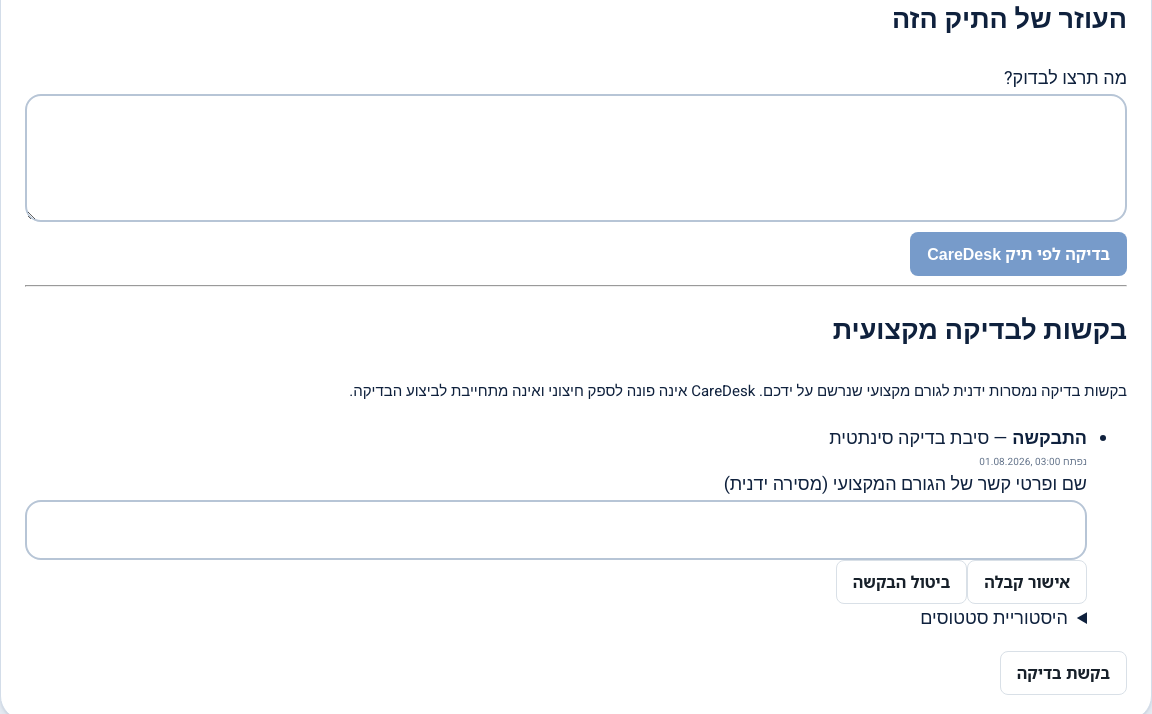
Test: ProductCompletionPanel › honest failure states › shows an error instead of an empty-looking audit history when it fails to load
(page scrolled)
Expected: the text "התבקשה" is shown, [1012,425,1087,452]
Click the heading "היסטוריית סטטוסים".
click(994, 618)  # box [920,605,1068,632]
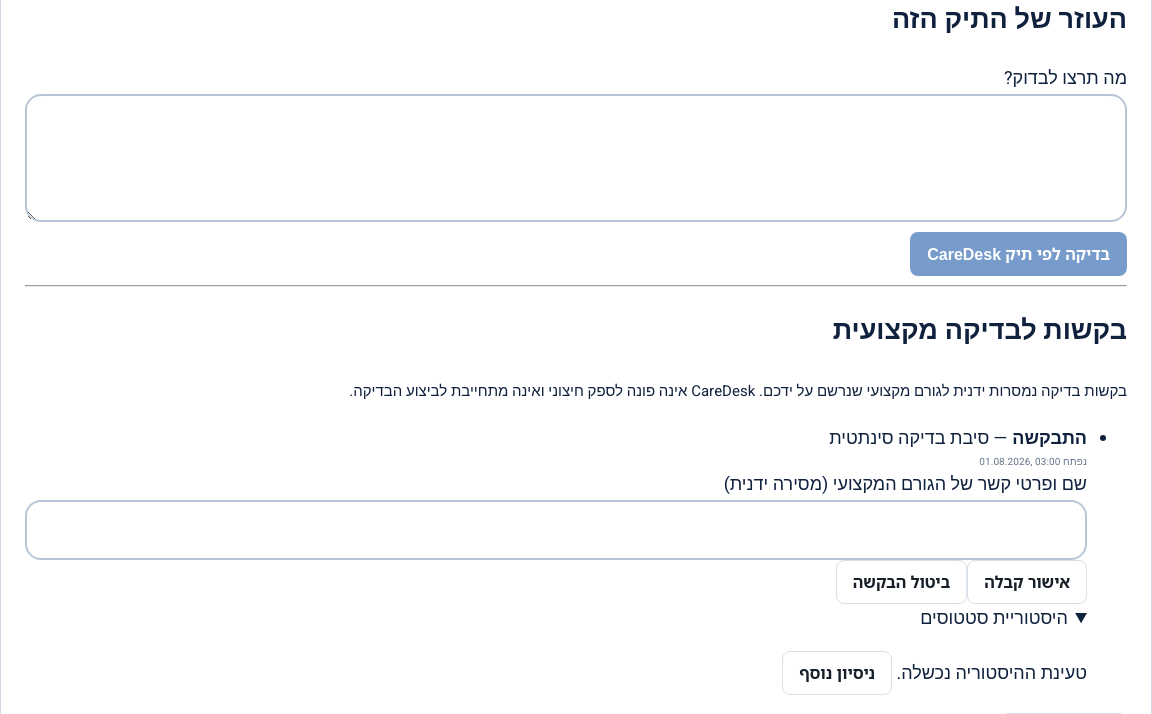
Now the text "טעינת ההיסטוריה נכשלה." is shown, box [896,660,1087,688]
